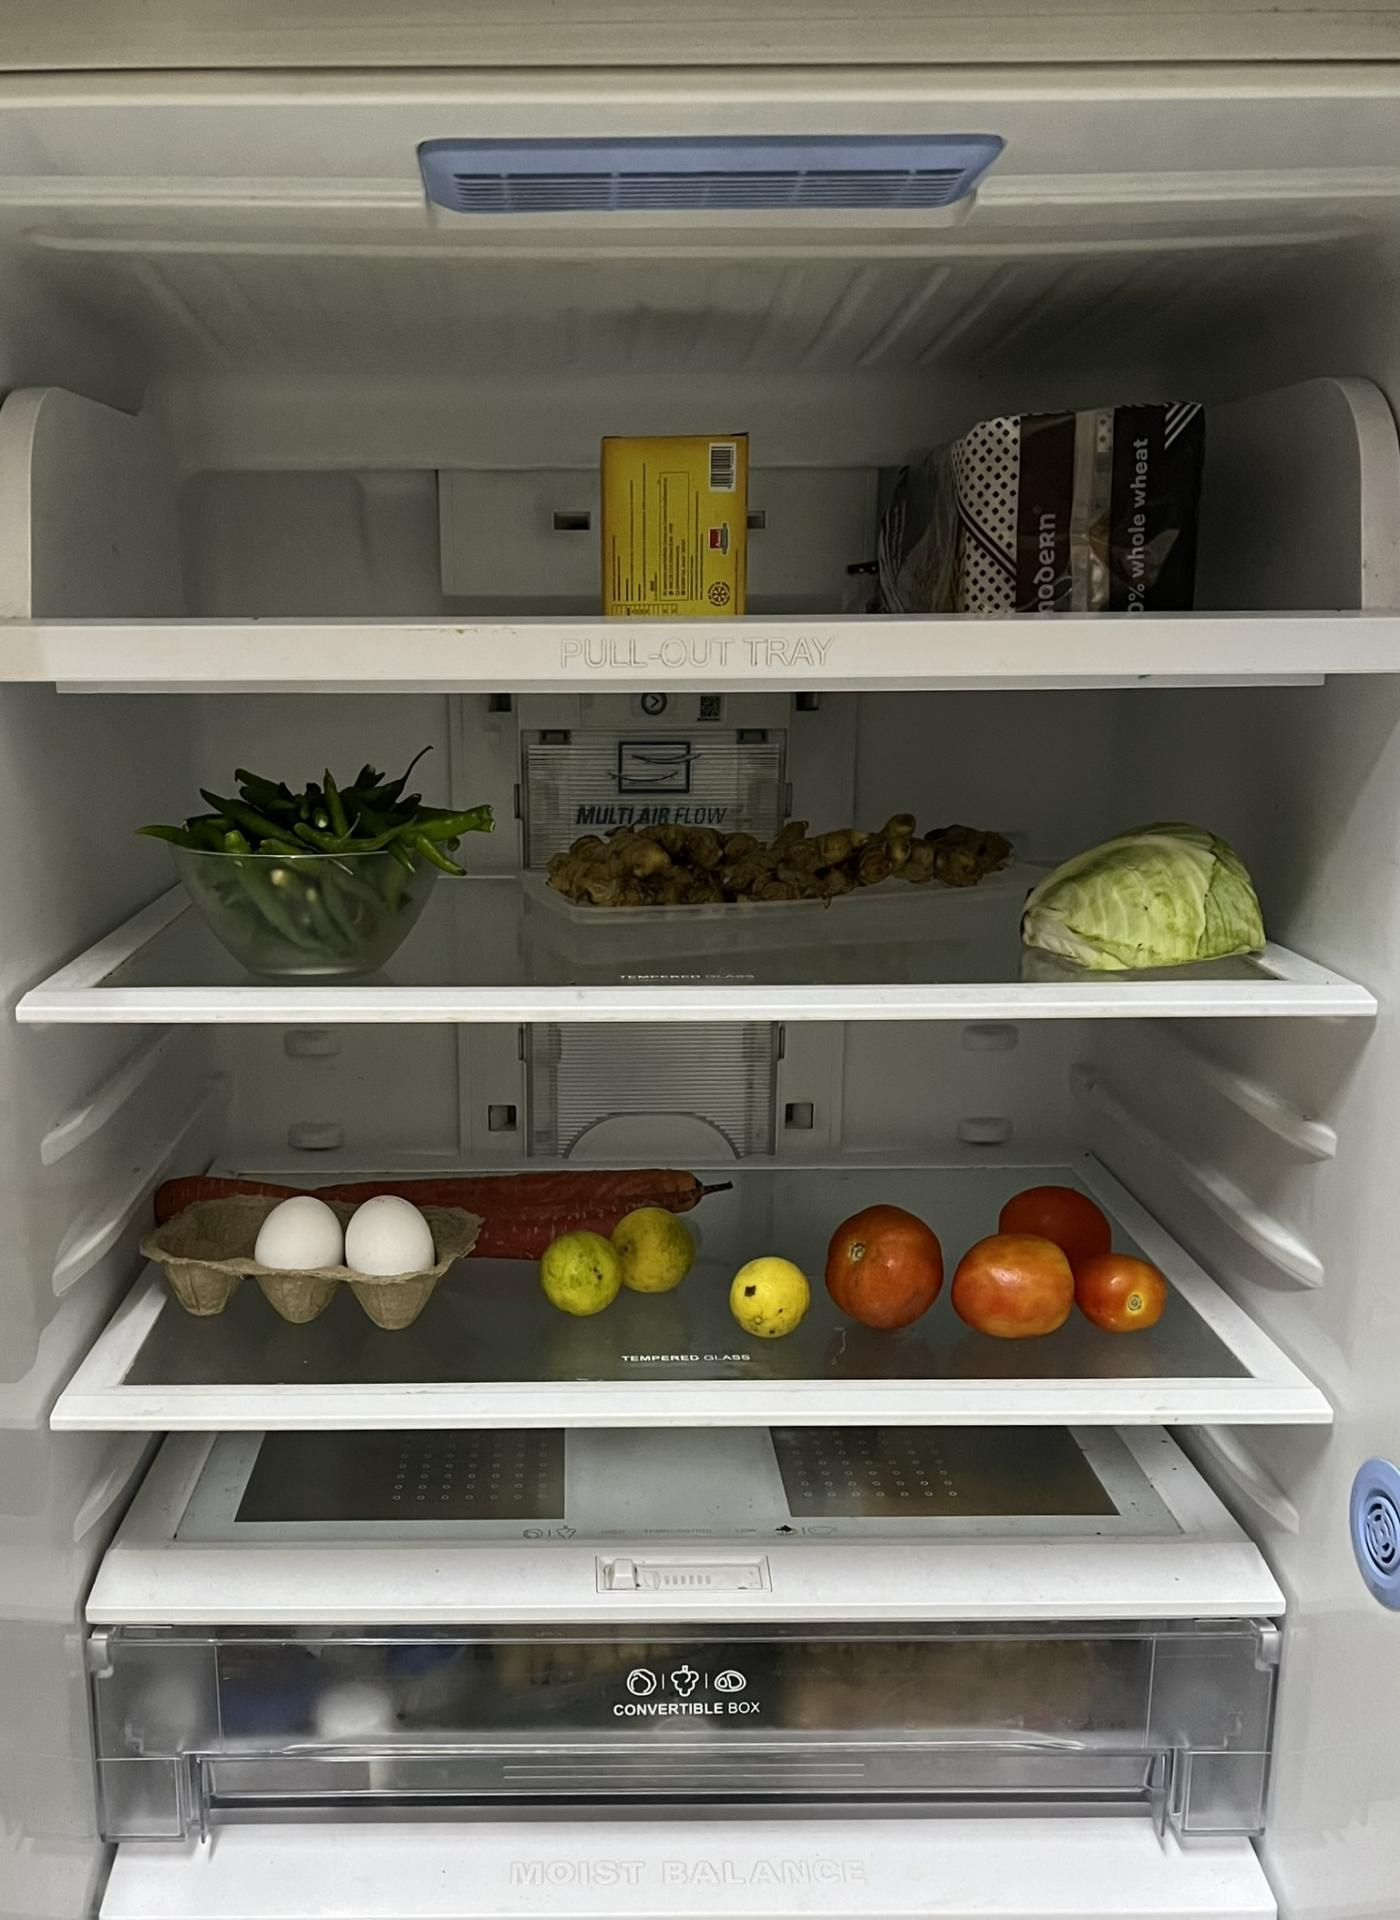bread: (863, 385, 1209, 614)
butter: (596, 432, 754, 617)
cabbage: (1027, 829, 1273, 972)
carrots: (171, 1152, 714, 1258)
chillies: (167, 760, 485, 961)
egg: (262, 1182, 447, 1331)
ginger: (546, 805, 1021, 911)
lemon: (547, 1200, 698, 1318), (729, 1248, 810, 1340)
tomato: (824, 1188, 1164, 1346)
